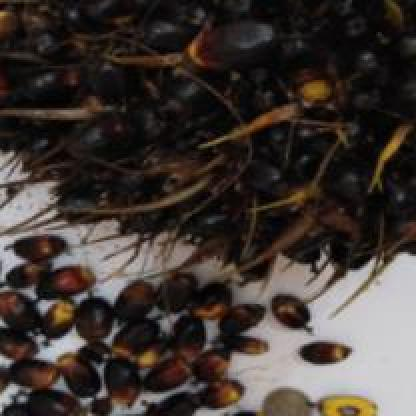Unripe: (0, 0, 416, 352)
